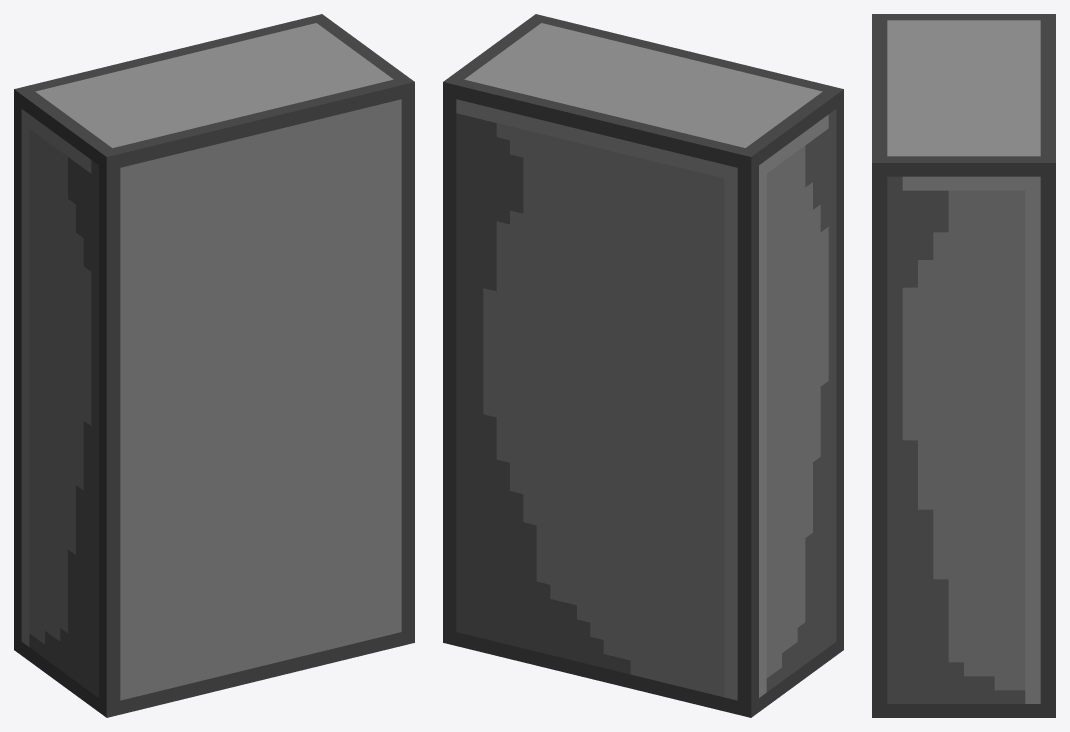
Rendered from StoneBlock-3.obj.
3 views of the same model, side by side, from view 1: azimuth 30°, elevation 25°; view 2: azimuth 150°, elevation 25°; view 3: azimuth 270°, elevation 25° (orthographic).
Size of the model in its own units: 2.3 by 4 by 1.2.
1 material, 1 textured.
